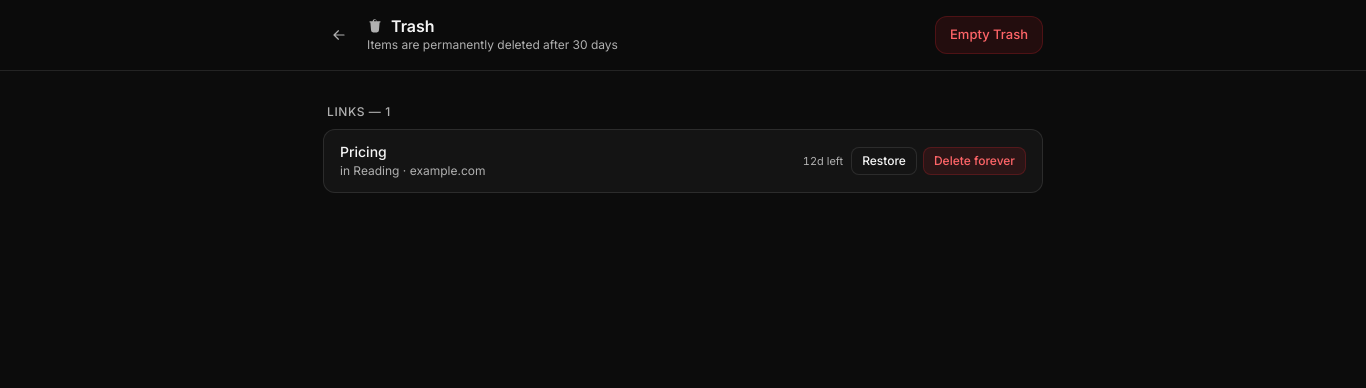
Trash load errors › explains a dead session and a connection failure
The width and height of the screenshot is (1366, 388).
Check: the text "Pricing" is shown, box [340,143,387,160]
Step 1. Click the button "Restore " → (884, 161), box [851,147,917,175]
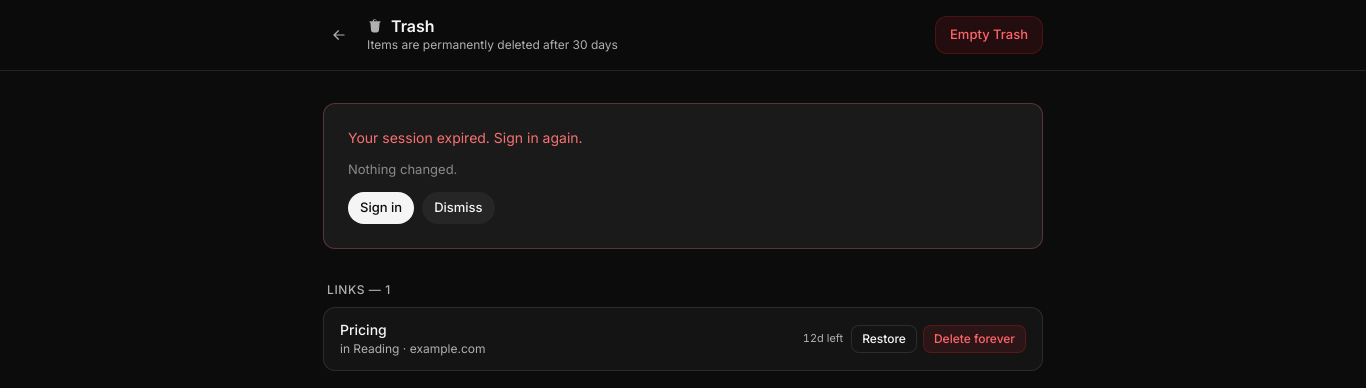
Check: the message shows "Your session expired. Sign in again.", box [348,129,583,146]
Step 2. Click the button "Dismiss" → (458, 208), box [422,192,495,224]
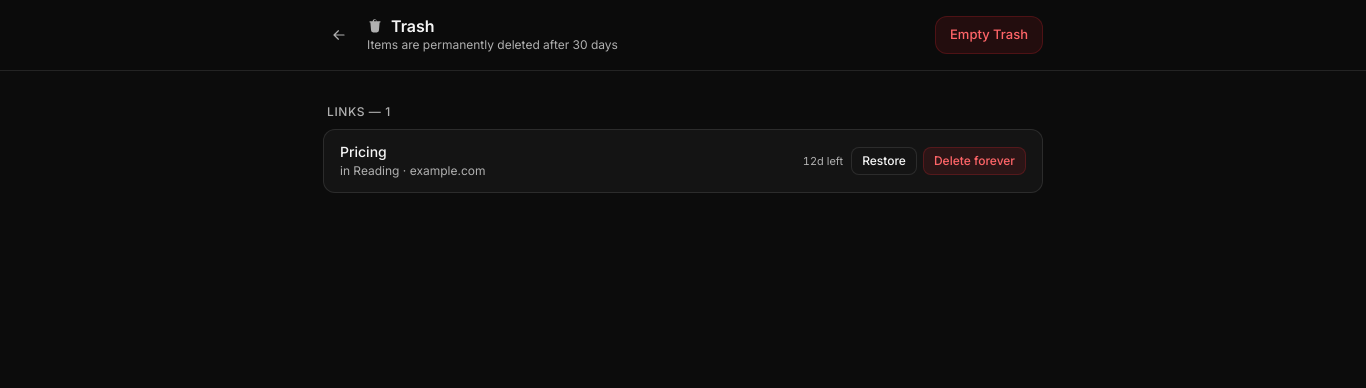
Step 3. Click the button "Restore " → (884, 161), box [851,147,917,175]
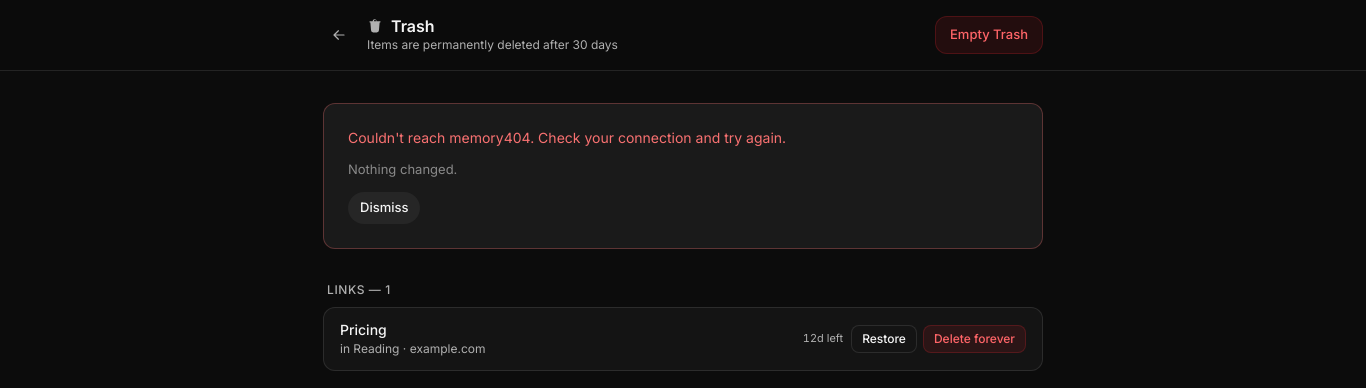
Check: the text "Pricing" is shown, box [340,320,387,338]
Check: the message shows "Couldn't reach memory404. Check your connection and try again.", box [348,129,786,146]
